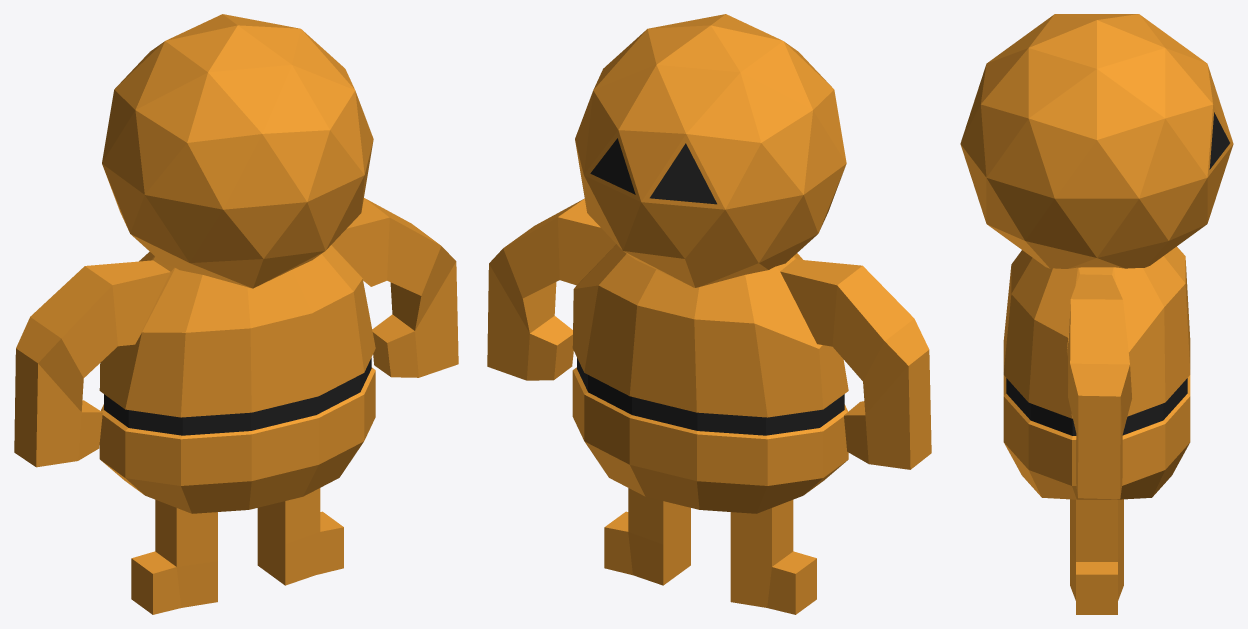
Rendered from yellowy.fbx.
The picture shows the model from 3 angles, left to right: view 1: azimuth 30°, elevation 25°; view 2: azimuth 150°, elevation 25°; view 3: azimuth 270°, elevation 25°; orthographic projection.
Visible parts, largest first — view 1: Yellowy; view 2: Yellowy; view 3: Yellowy.
Boxes of the visible parts, x1,y1,x2,y2 form: Yellowy: (14,14,458,614); Yellowy: (487,14,931,614); Yellowy: (960,14,1233,614).
Bounding box in the file's own units: 393 × 496 × 224.
